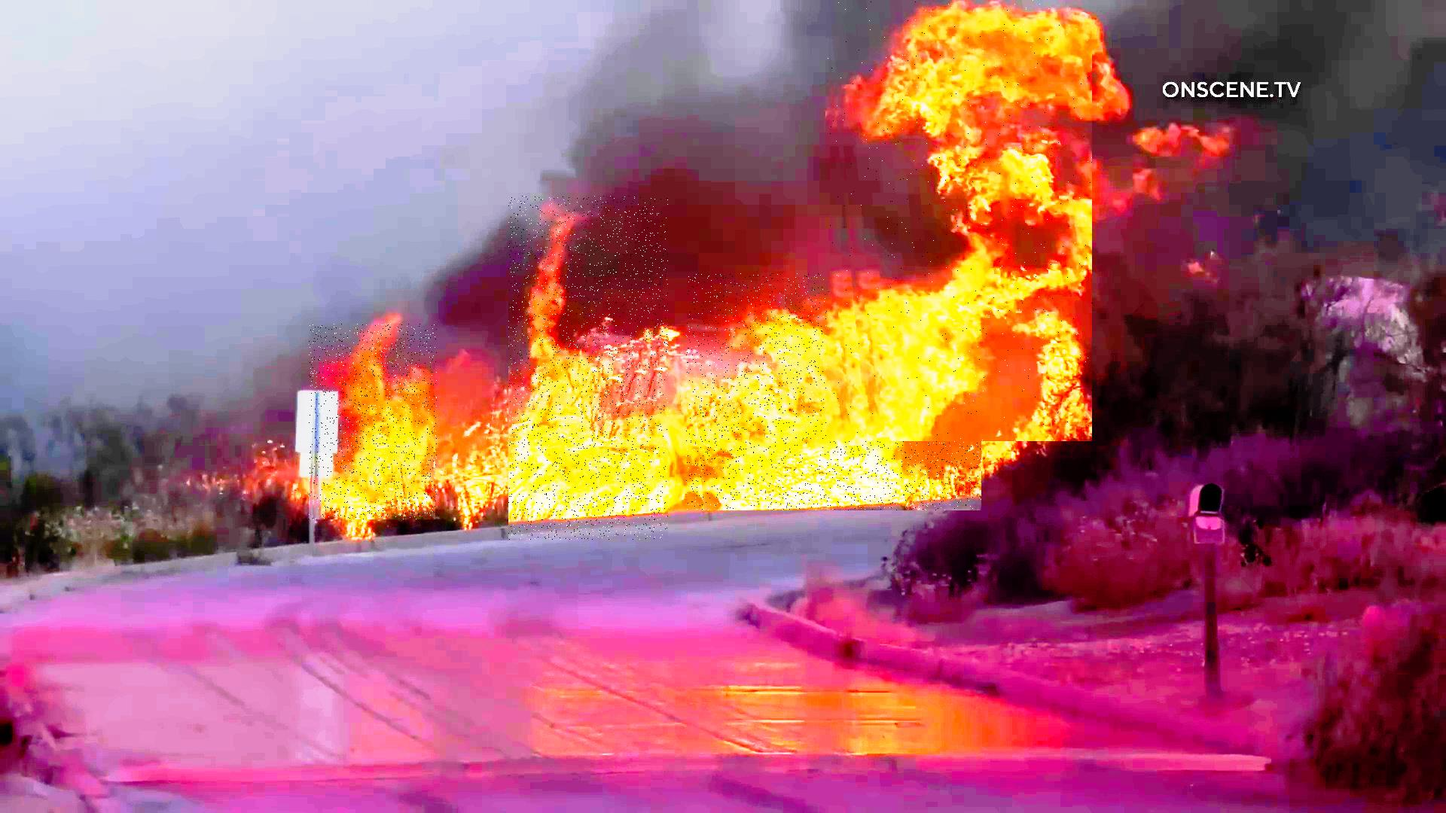fire: (827, 0, 1094, 441), (686, 273, 981, 511), (509, 196, 668, 540), (309, 324, 437, 520)
